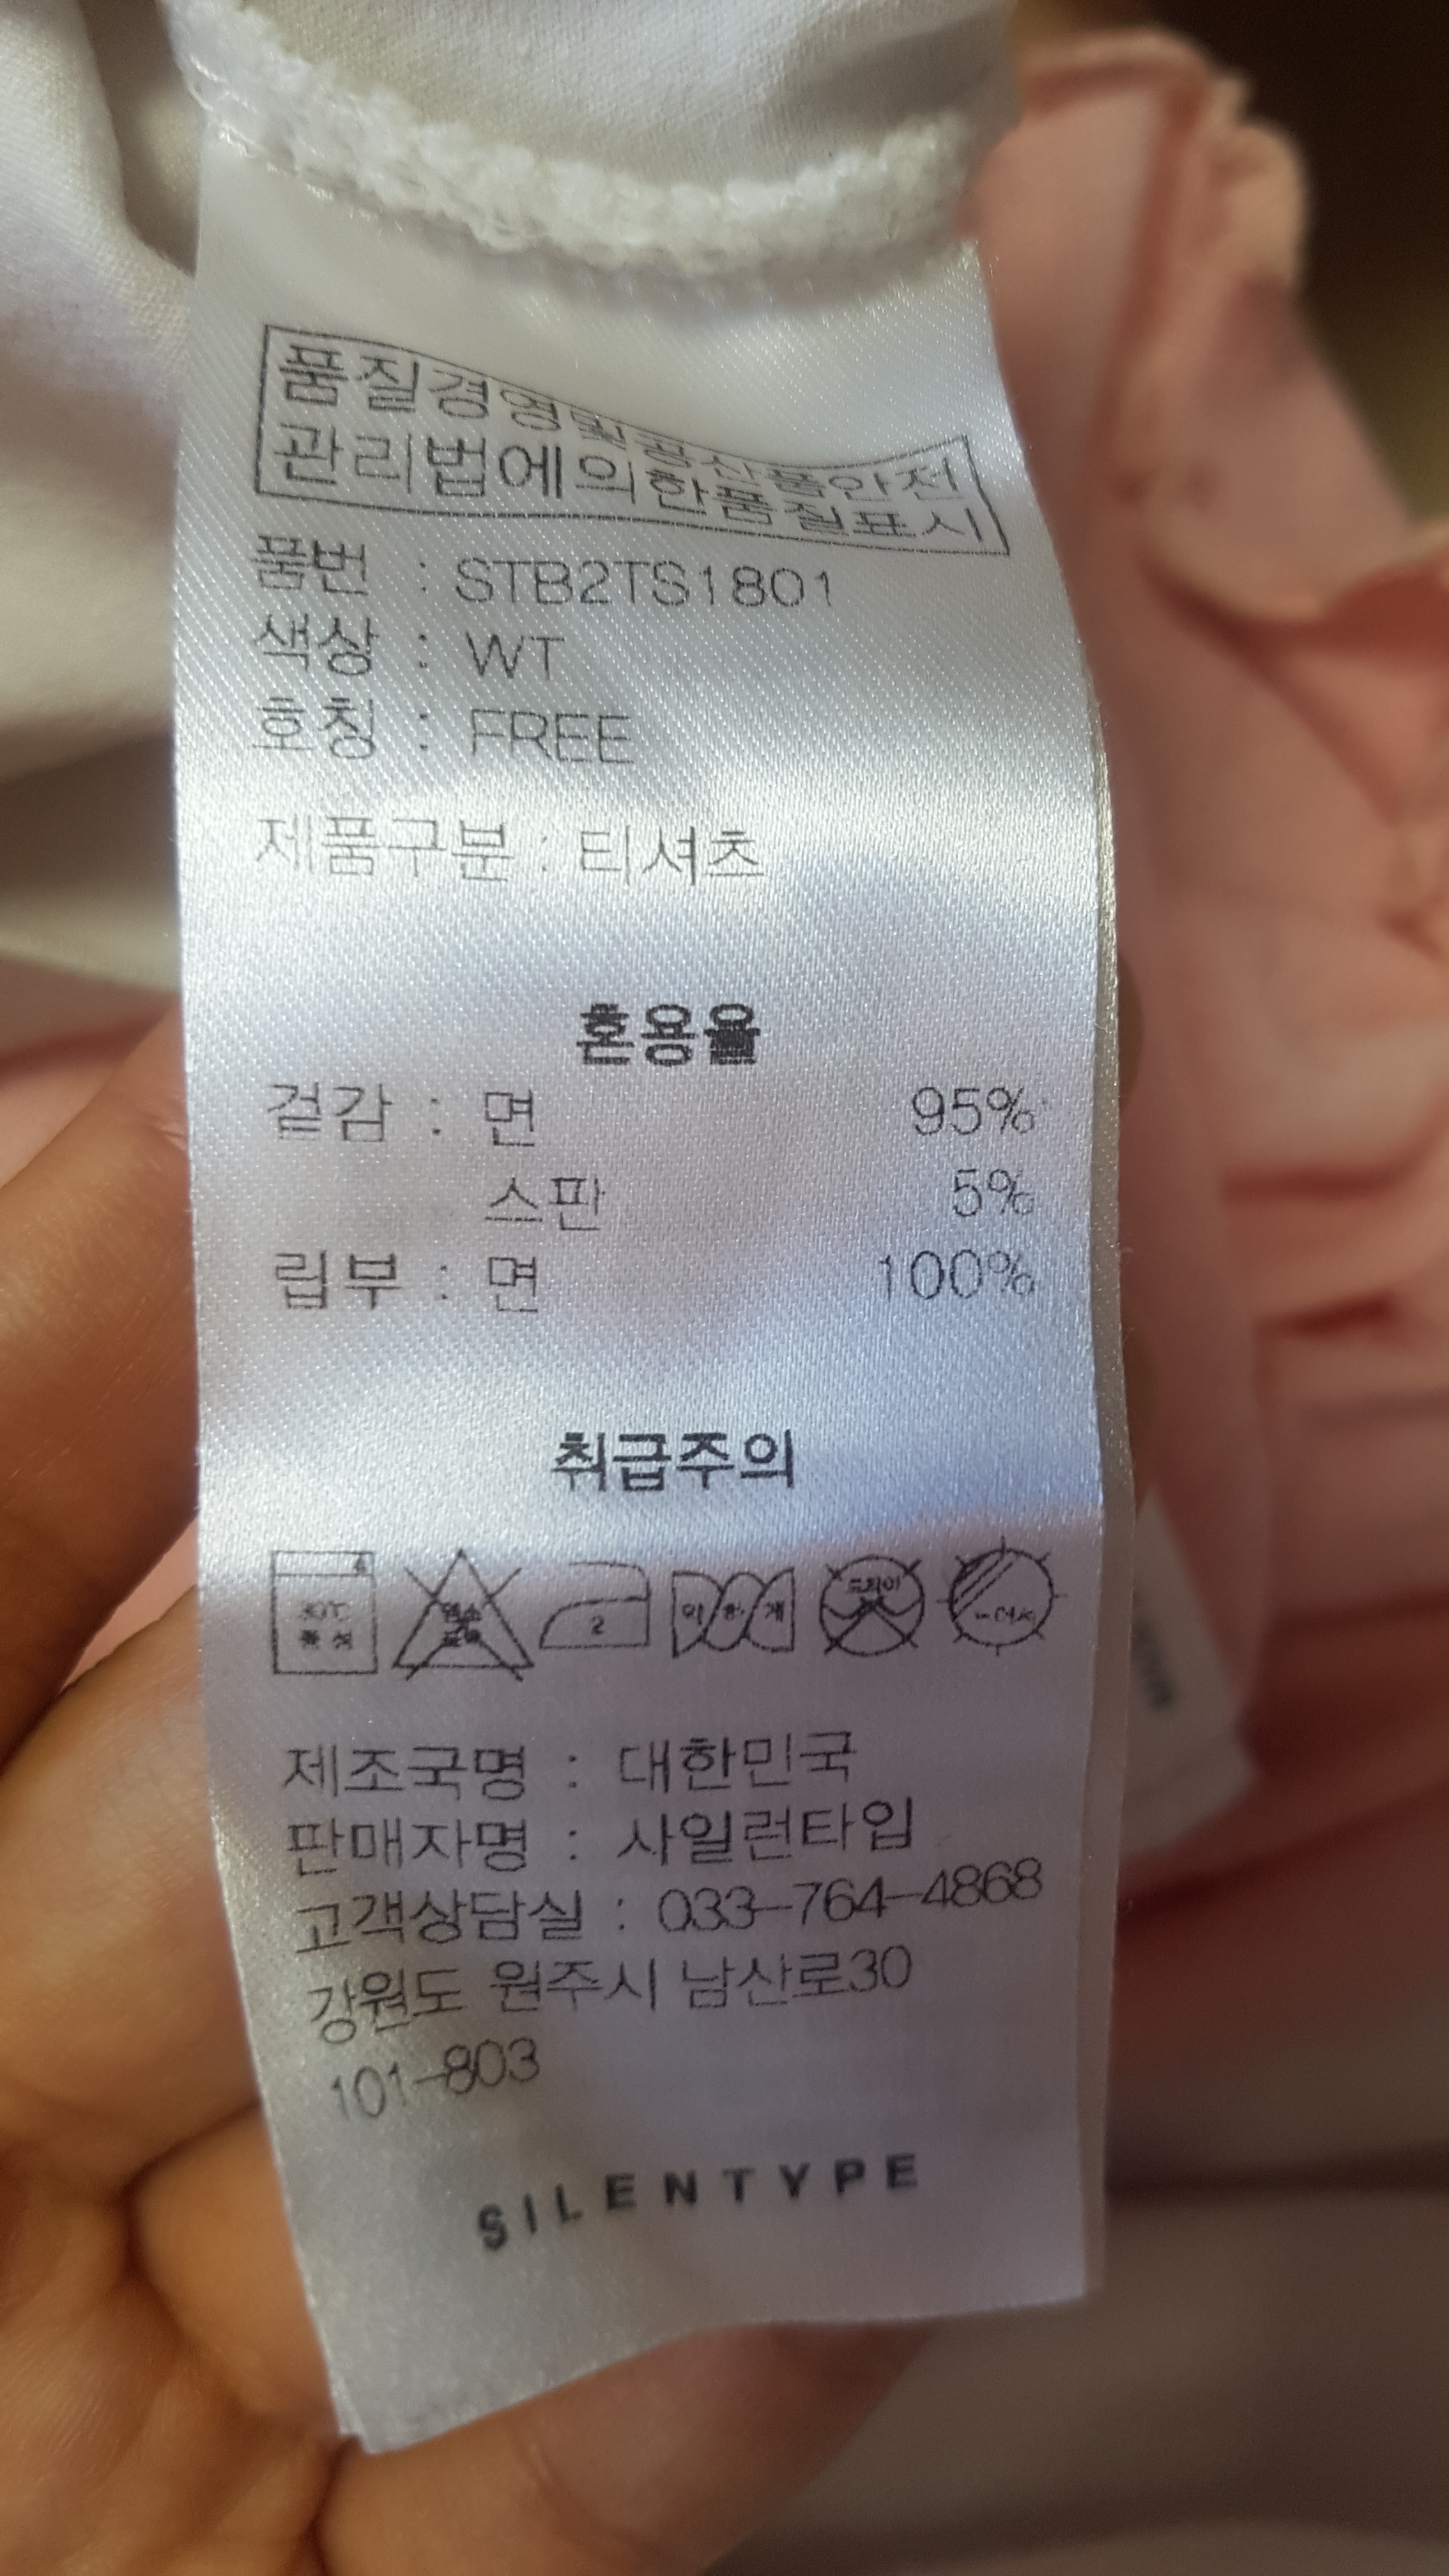do_not_bleach: (593, 964, 817, 1237)
